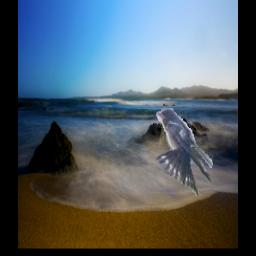Swallow: (155, 109, 212, 198)
